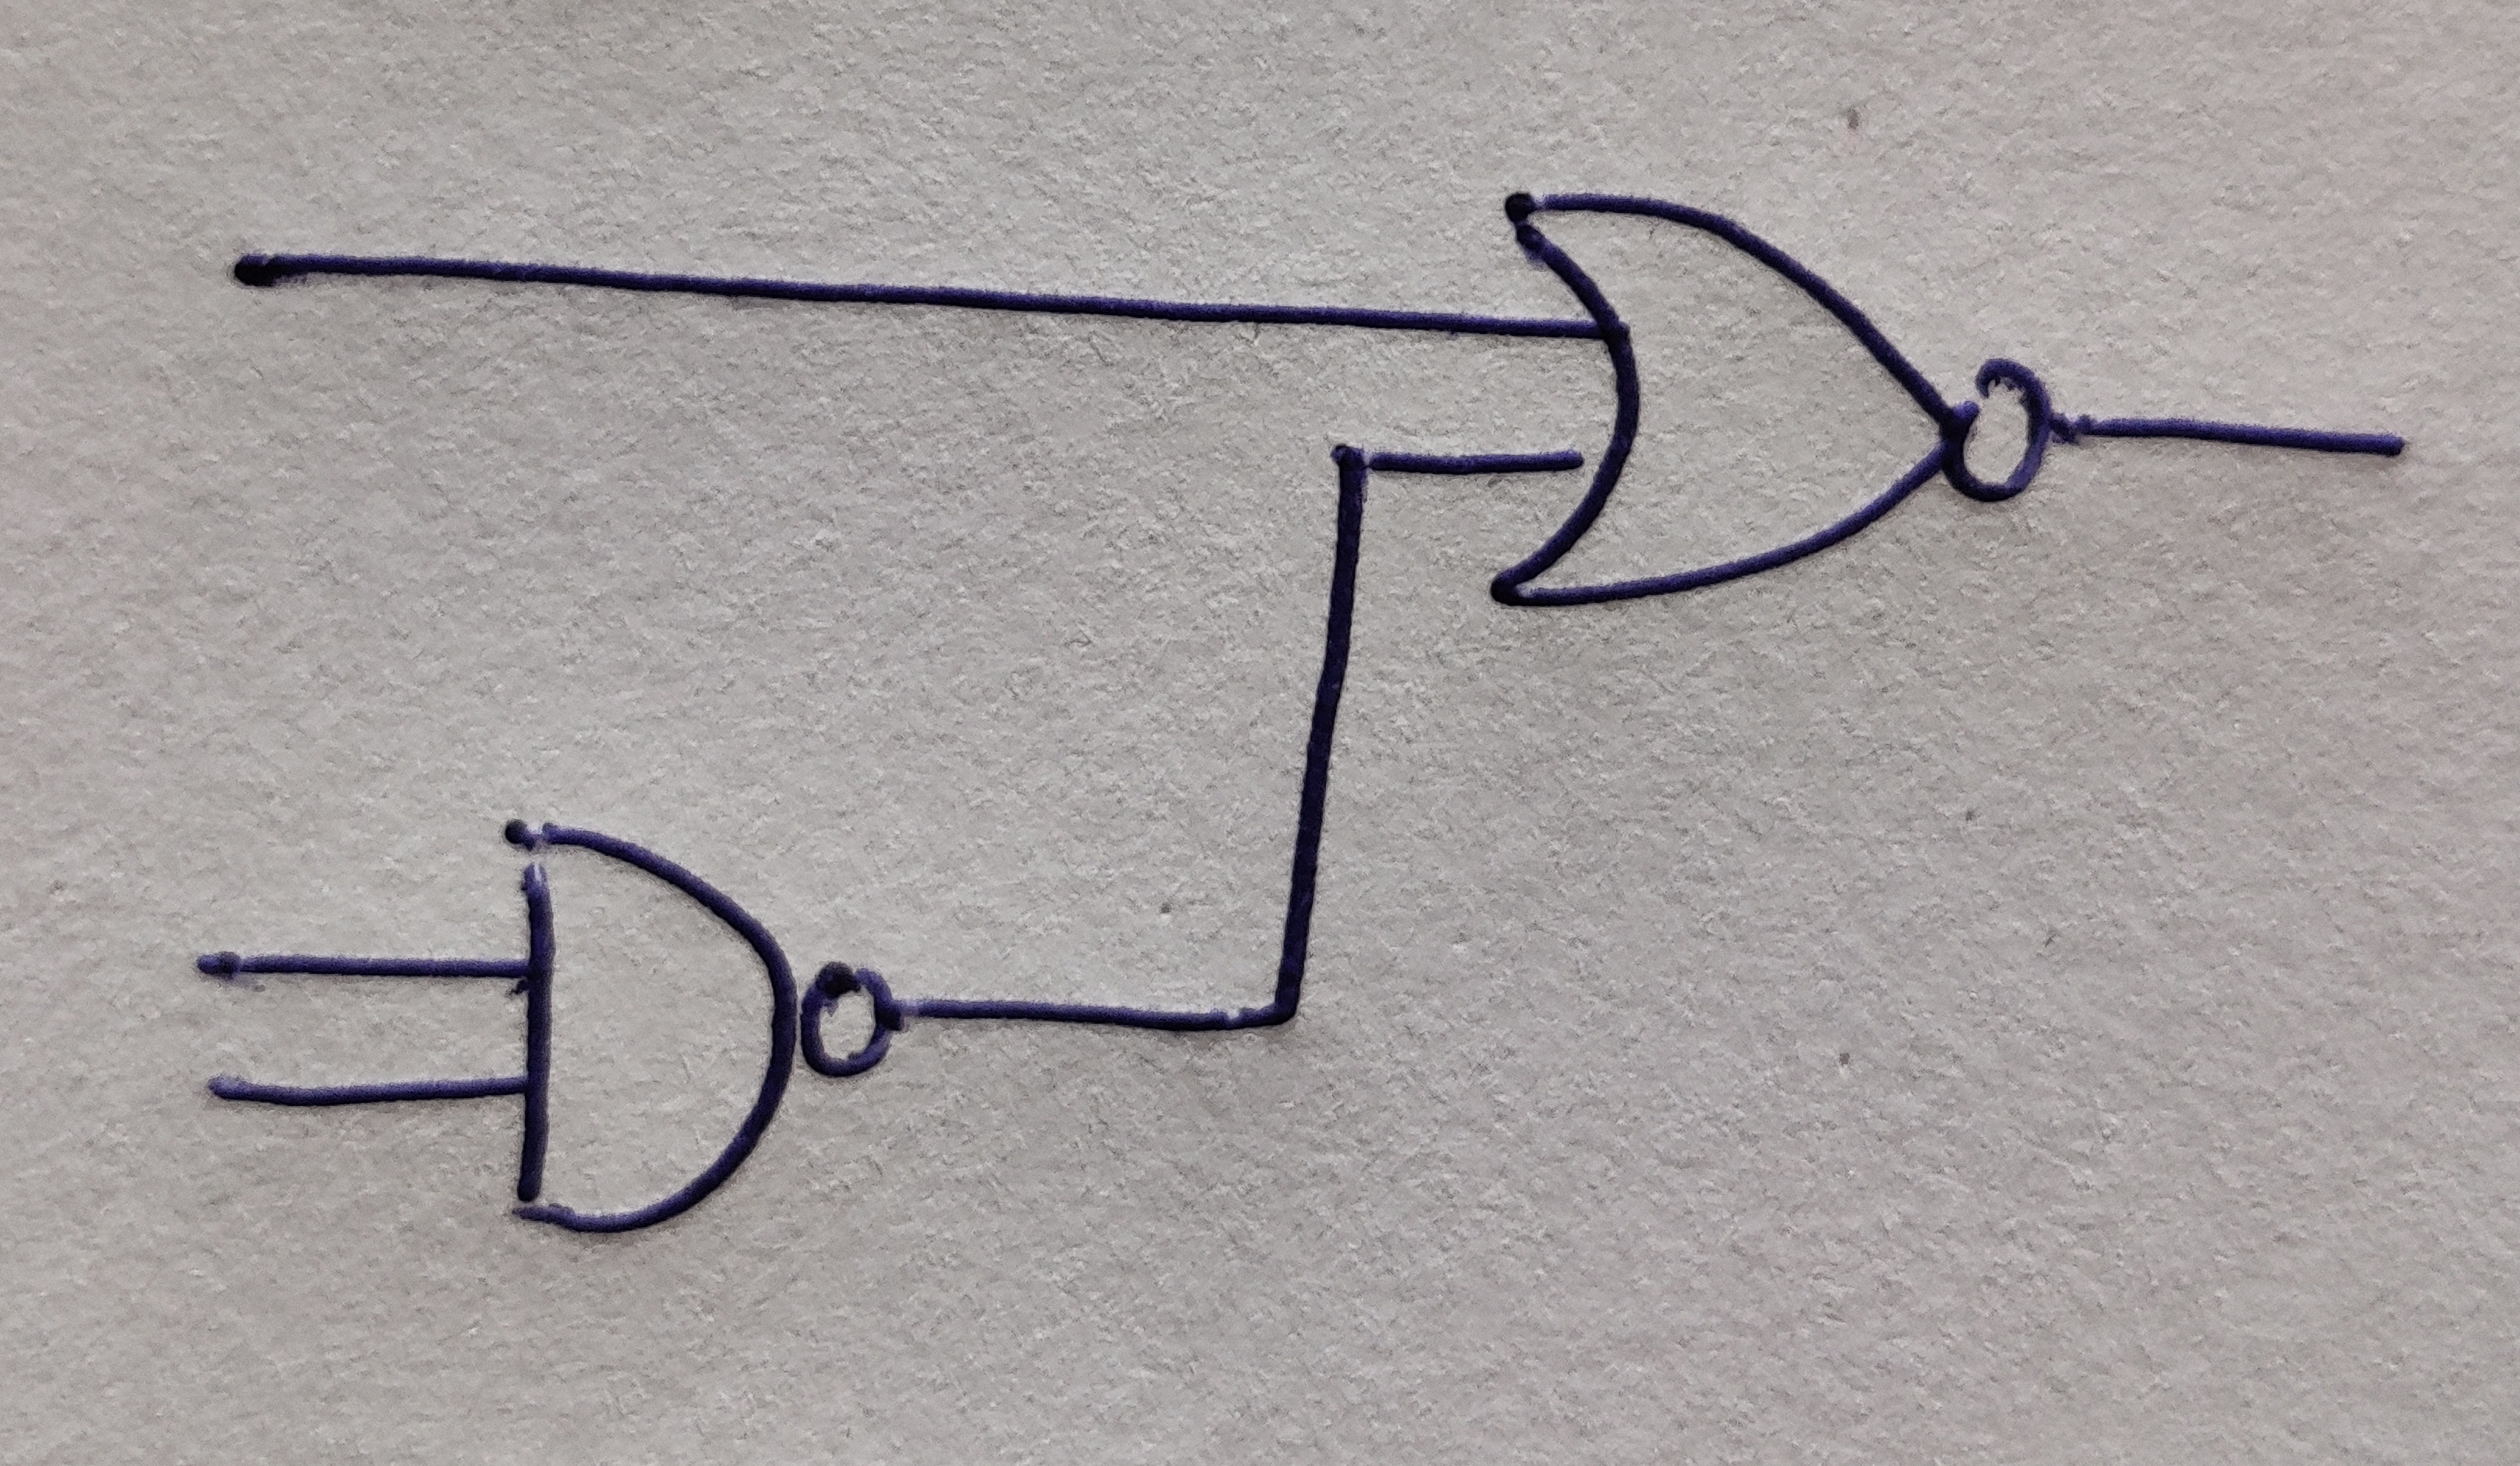and: (504, 820, 798, 1236)
not: (1944, 358, 2047, 503), (799, 962, 897, 1079)
or: (1490, 190, 1951, 607)
